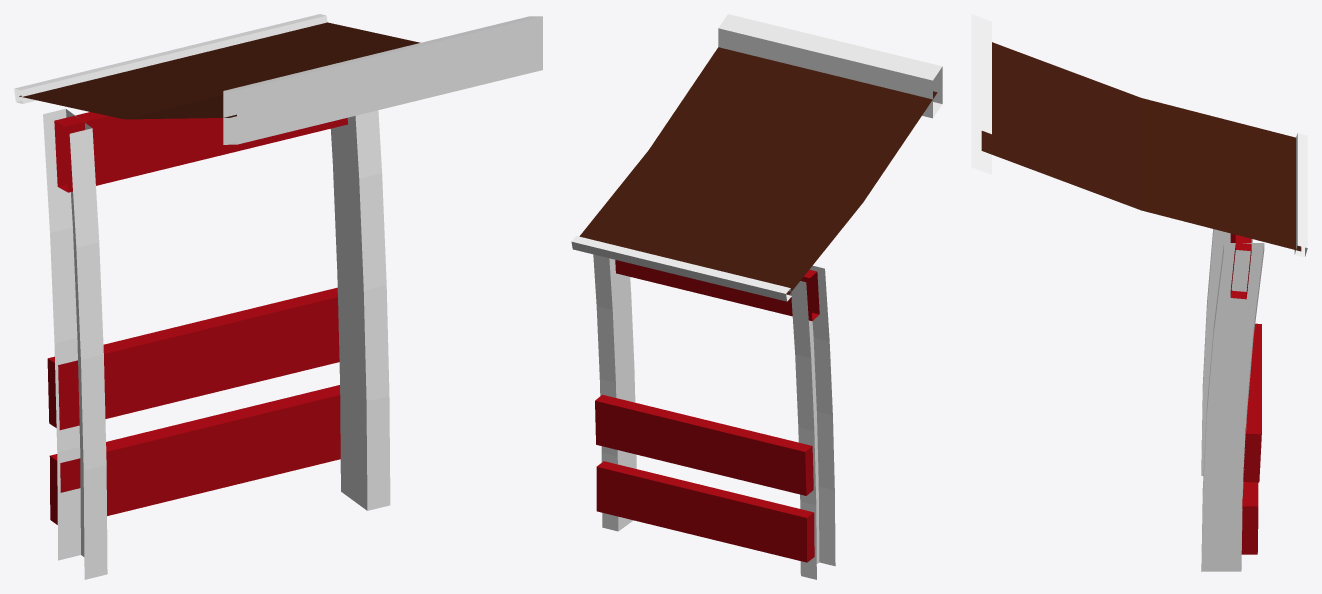
File: Animal_Shed_Straight (2).fbx
The picture shows the model from 3 angles, left to right: view 1: azimuth 30°, elevation 25°; view 2: azimuth 150°, elevation 25°; view 3: azimuth 270°, elevation 25°; orthographic projection. The views are drawn at different scales.
Visible parts, largest first — view 1: Straight.001; view 2: Straight.001; view 3: Straight.001.
Part boxes in pixels (left/top/right/bottom): Straight.001: left=14, top=14, right=542, bottom=579; Straight.001: left=571, top=14, right=942, bottom=579; Straight.001: left=971, top=14, right=1307, bottom=571.
Bounding box in the file's own units: 100 × 188 × 126.
